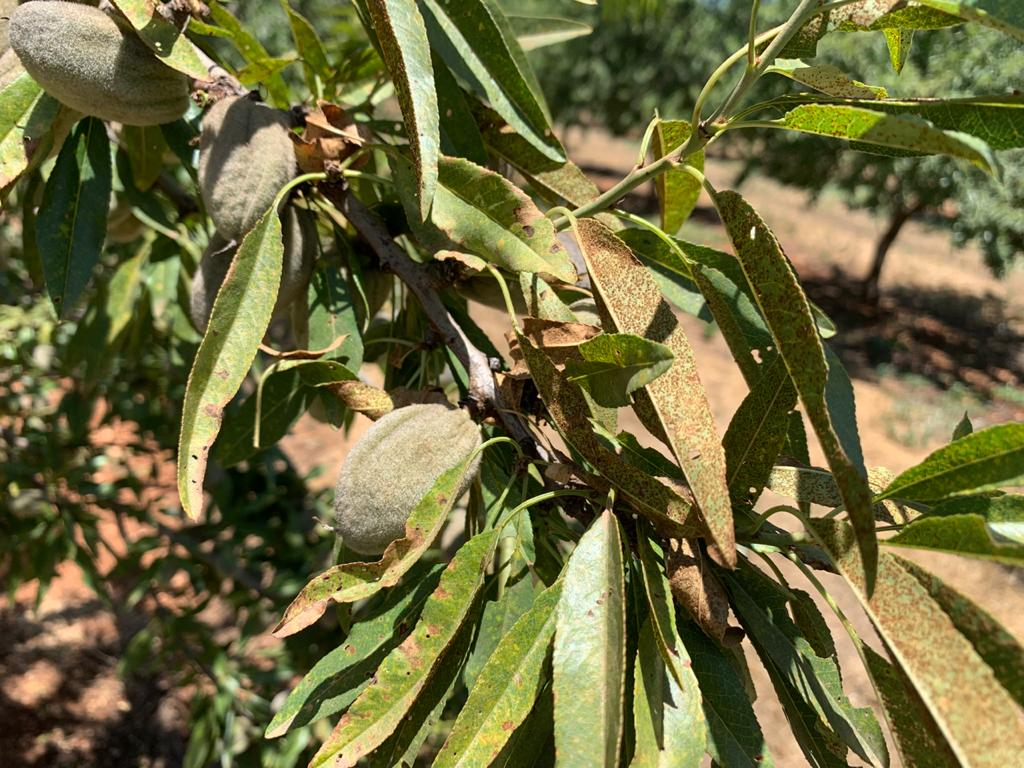rouille: (713, 191, 878, 600), (571, 216, 739, 565), (807, 517, 1024, 768), (308, 526, 507, 766), (271, 448, 479, 636), (178, 200, 284, 525), (431, 580, 562, 768), (389, 150, 576, 281), (552, 511, 626, 768), (363, 1, 442, 222), (776, 101, 988, 169), (789, 1, 965, 46), (655, 120, 707, 237), (767, 58, 891, 99)
